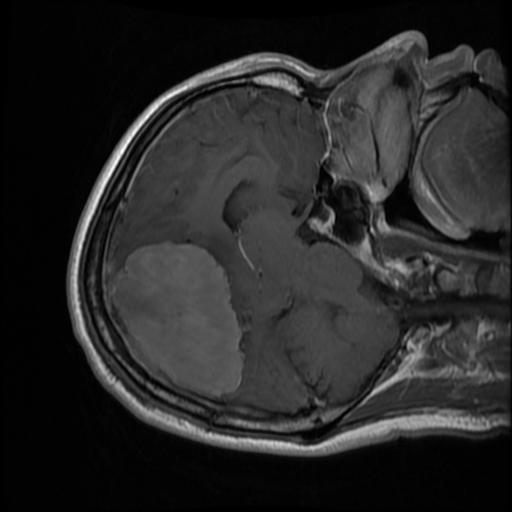meningioma: (107, 242, 242, 401)
